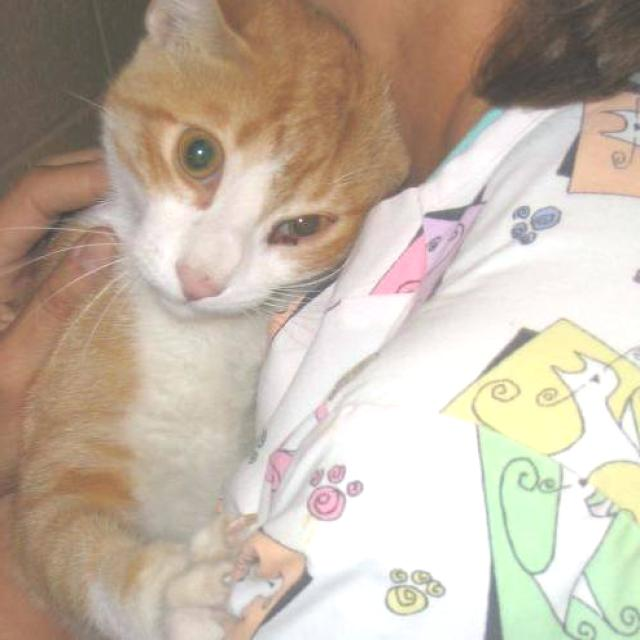Kucing: (2, 0, 636, 555)
